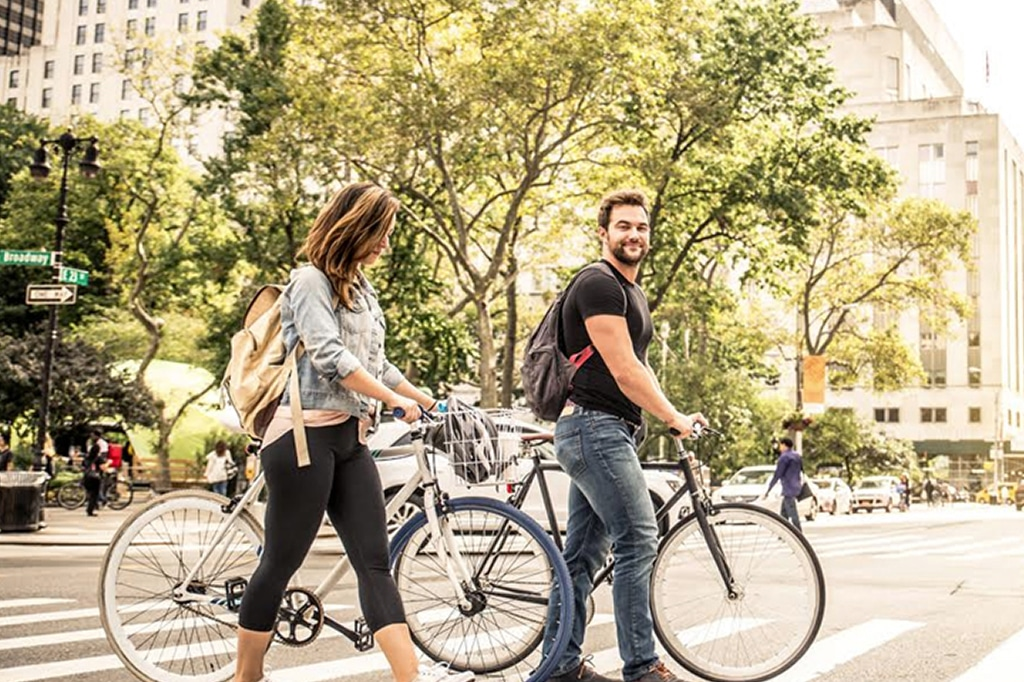Bicycle: (96, 451, 562, 665), (425, 465, 830, 677)
Car: (849, 475, 910, 516)
Person: (235, 195, 415, 682), (529, 191, 672, 677), (760, 433, 824, 536)
Tree: (383, 23, 535, 423)
